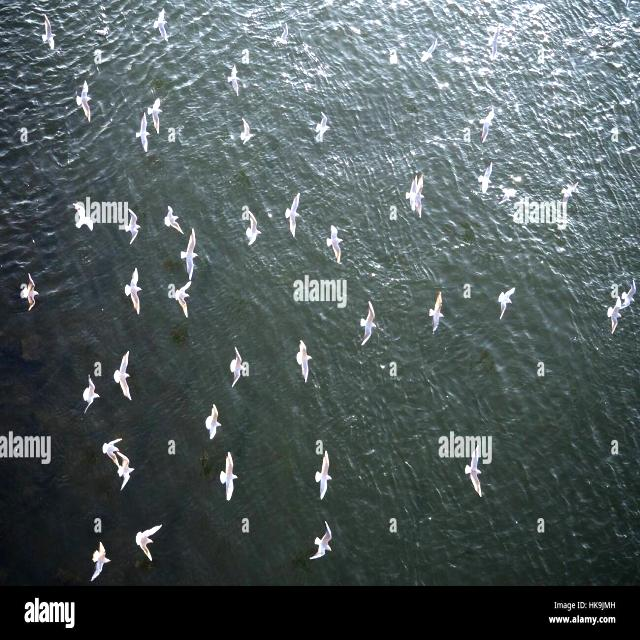bird: (131, 524, 164, 562), (112, 350, 136, 400), (464, 446, 487, 498), (313, 449, 335, 503), (120, 265, 144, 314), (310, 517, 336, 562), (180, 227, 201, 279), (218, 452, 238, 505), (88, 539, 111, 584), (323, 220, 346, 264), (284, 188, 303, 240), (72, 81, 96, 122), (294, 336, 314, 385), (79, 372, 102, 414), (426, 292, 449, 334), (37, 10, 61, 50), (356, 303, 378, 346), (115, 448, 136, 492), (618, 269, 638, 315), (20, 272, 42, 313), (160, 203, 186, 236), (496, 289, 522, 321), (229, 346, 248, 388), (145, 93, 164, 134), (150, 7, 172, 42), (134, 112, 152, 153), (204, 401, 222, 442), (122, 209, 142, 245), (314, 108, 332, 146), (481, 106, 499, 144), (418, 38, 442, 66), (71, 203, 94, 232), (100, 436, 122, 466), (606, 297, 622, 338), (487, 22, 505, 58), (244, 211, 261, 249), (478, 160, 494, 199), (272, 20, 294, 48), (176, 280, 192, 318), (226, 62, 243, 97), (405, 170, 418, 214), (415, 175, 428, 219), (239, 116, 256, 148)
